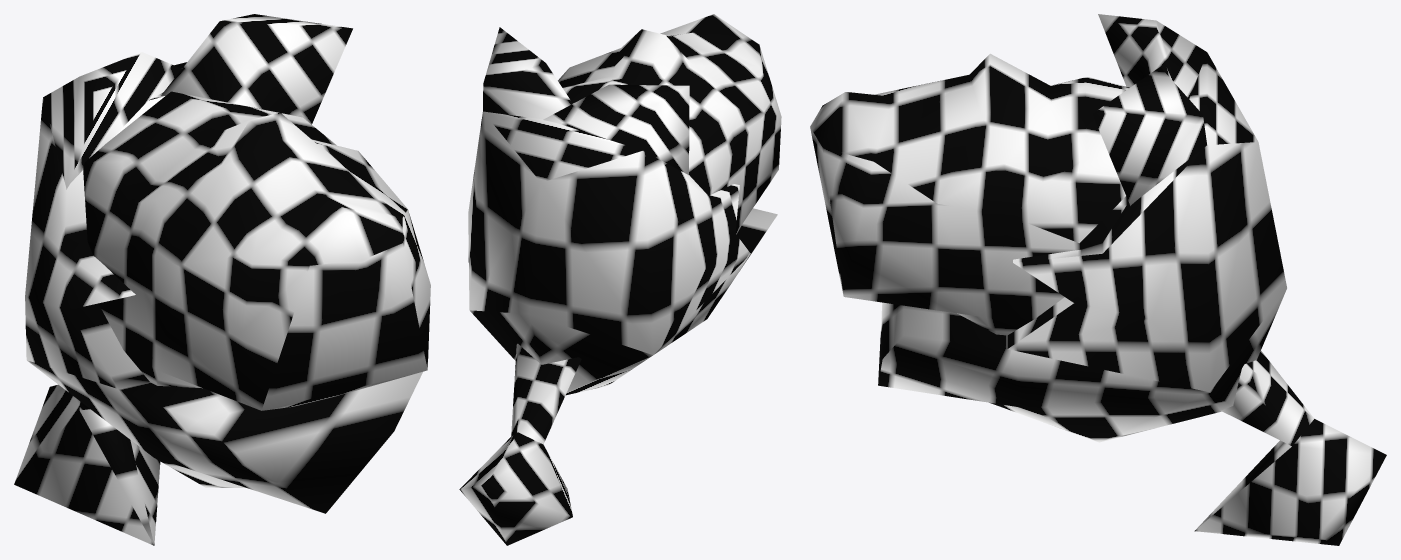
The model's file is infaunhufe4.dae.
The picture shows the model from 3 angles, left to right: view 1: azimuth 30°, elevation 25°; view 2: azimuth 150°, elevation 25°; view 3: azimuth 270°, elevation 25°; orthographic projection. The views are drawn at different scales.
Parts seen in each view (by area): view 1: face; view 2: face; view 3: face.
Boxes of the visible parts, bbox=[...] form: face: bbox=[14, 14, 430, 545]; face: bbox=[459, 14, 781, 545]; face: bbox=[810, 14, 1386, 545].
Size of the model in its own units: 0.9928 by 1.77 by 1.69.
Materials: 1 (1 with a texture image).
